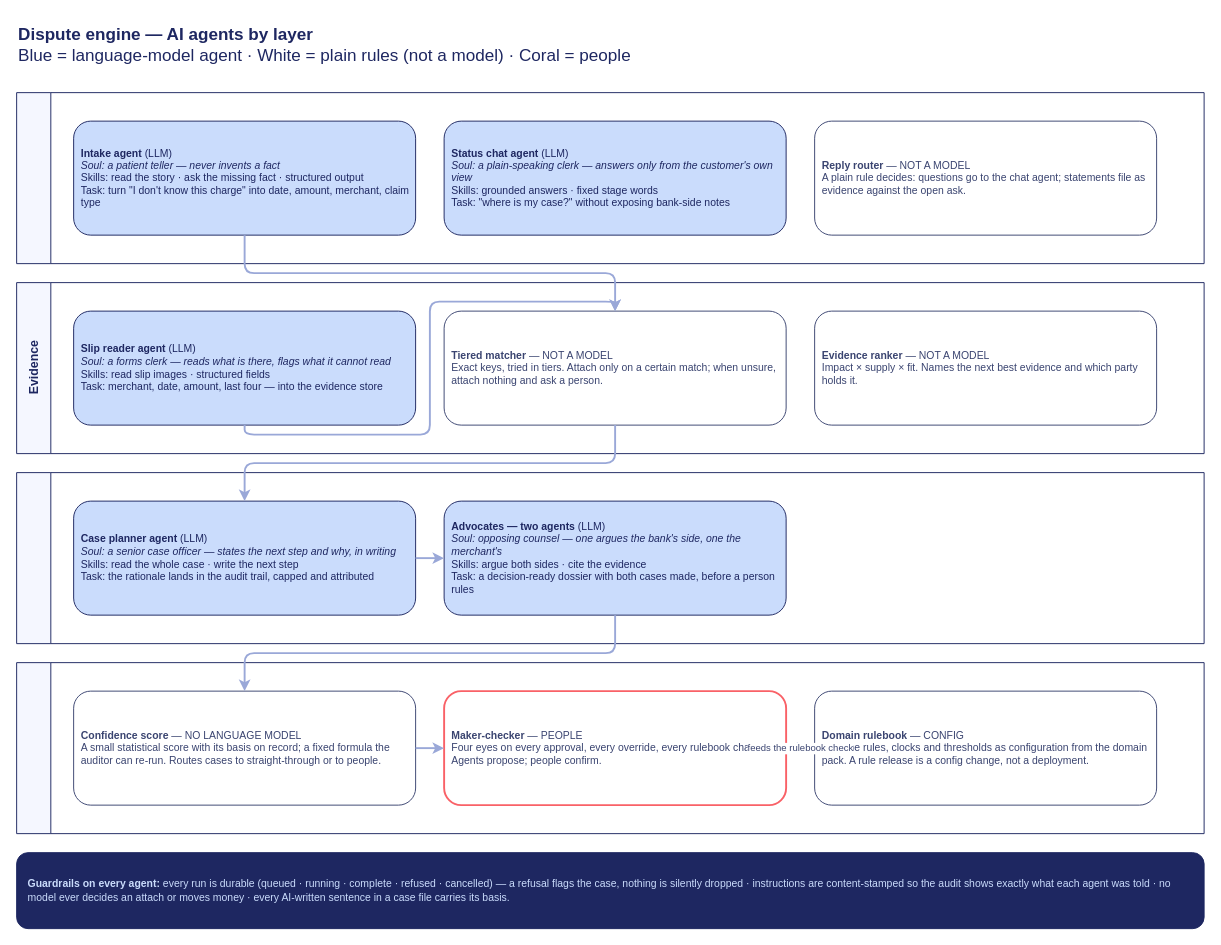
Image size: 1221x945. Some labels were removed from this diagram. The box of each missing label's shape, as (x1, y1, x2, y2) in pixels:
Case work: (16, 472, 1204, 644)
Customer channel: (16, 92, 1204, 264)
Decision & control: (16, 662, 1204, 834)
